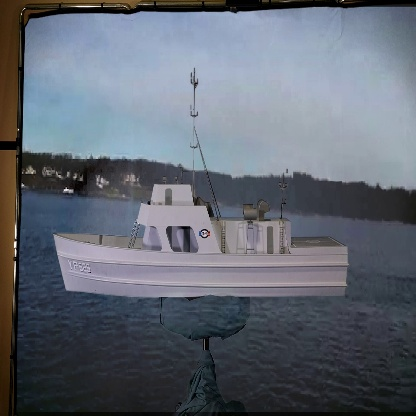YP689: (42, 53, 359, 301)
